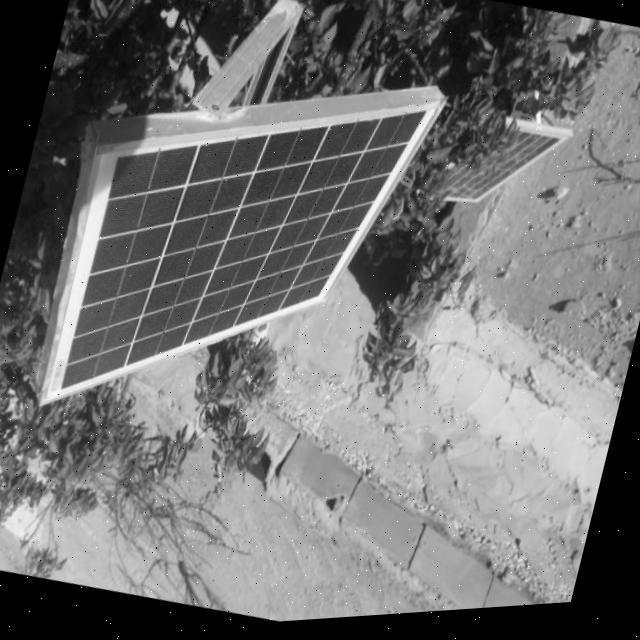Normal Solar Panel: (35, 31, 443, 482)
